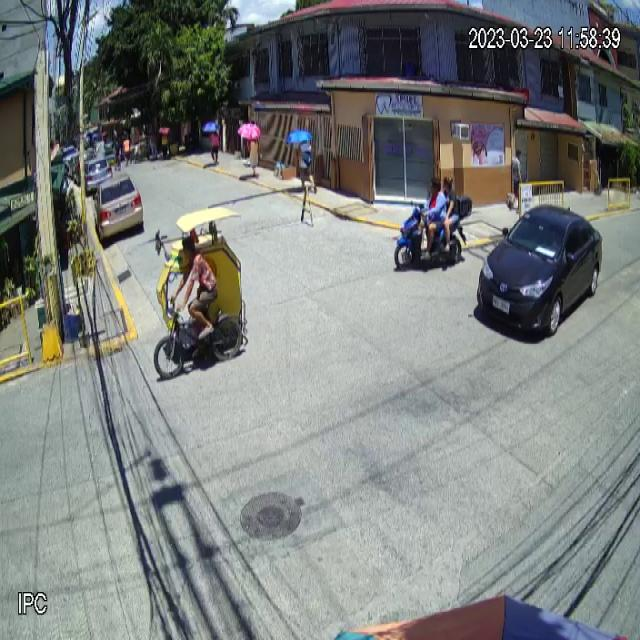Car: (476, 203, 604, 339)
Motorcycle: (394, 196, 474, 272)
